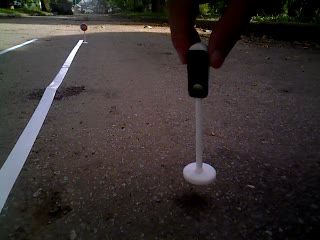Blue: (186, 50, 210, 100)
